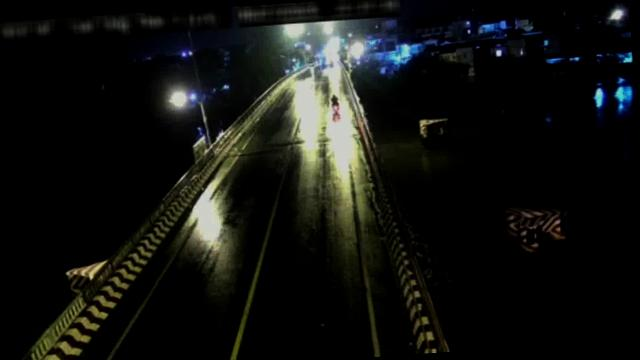Bike: (328, 92, 341, 112)
